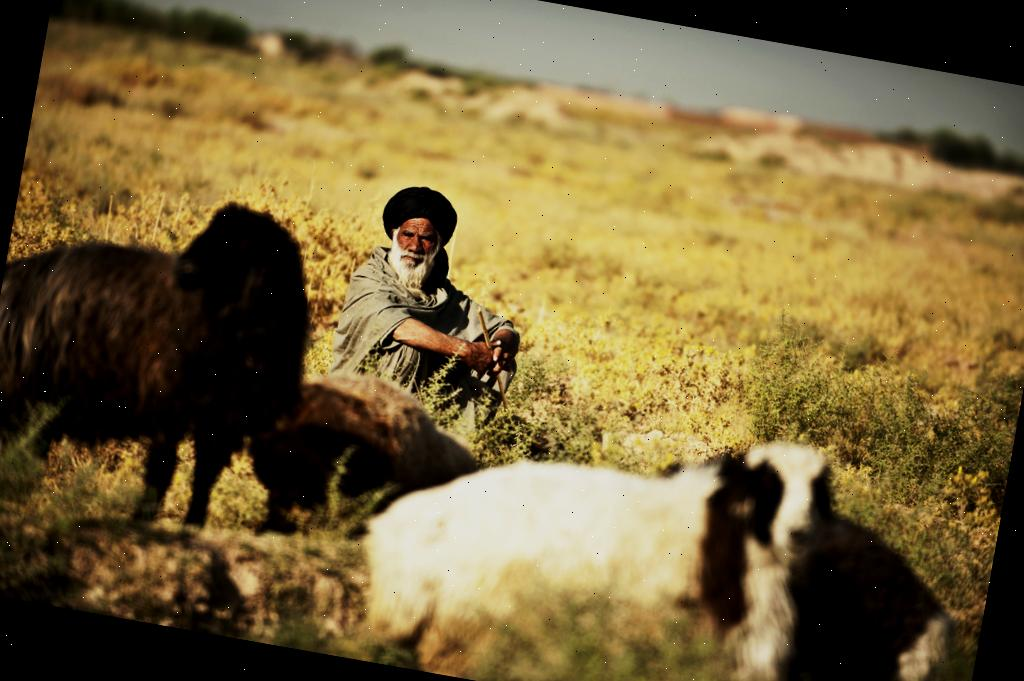Sheep: (335, 371, 839, 681), (0, 155, 332, 562)
